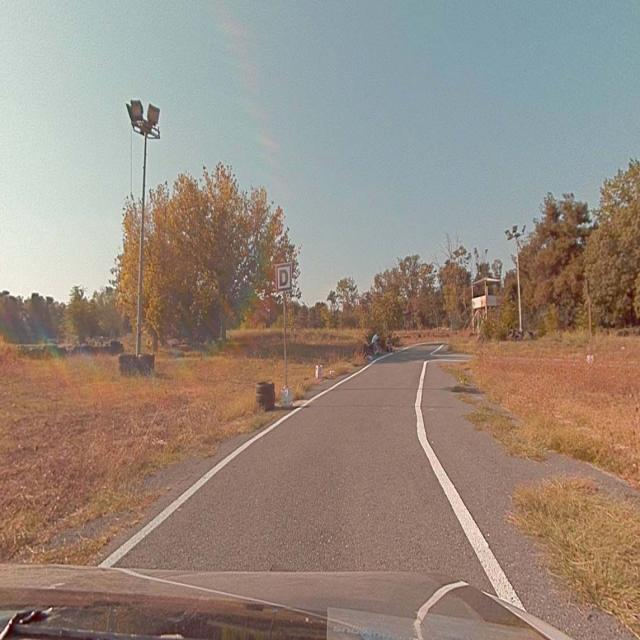durak: (276, 265, 292, 290)
